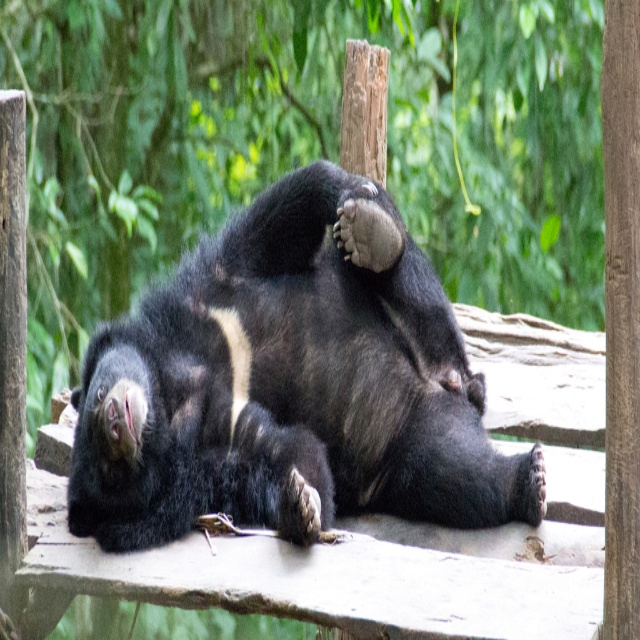Bear: (64, 159, 546, 556)
